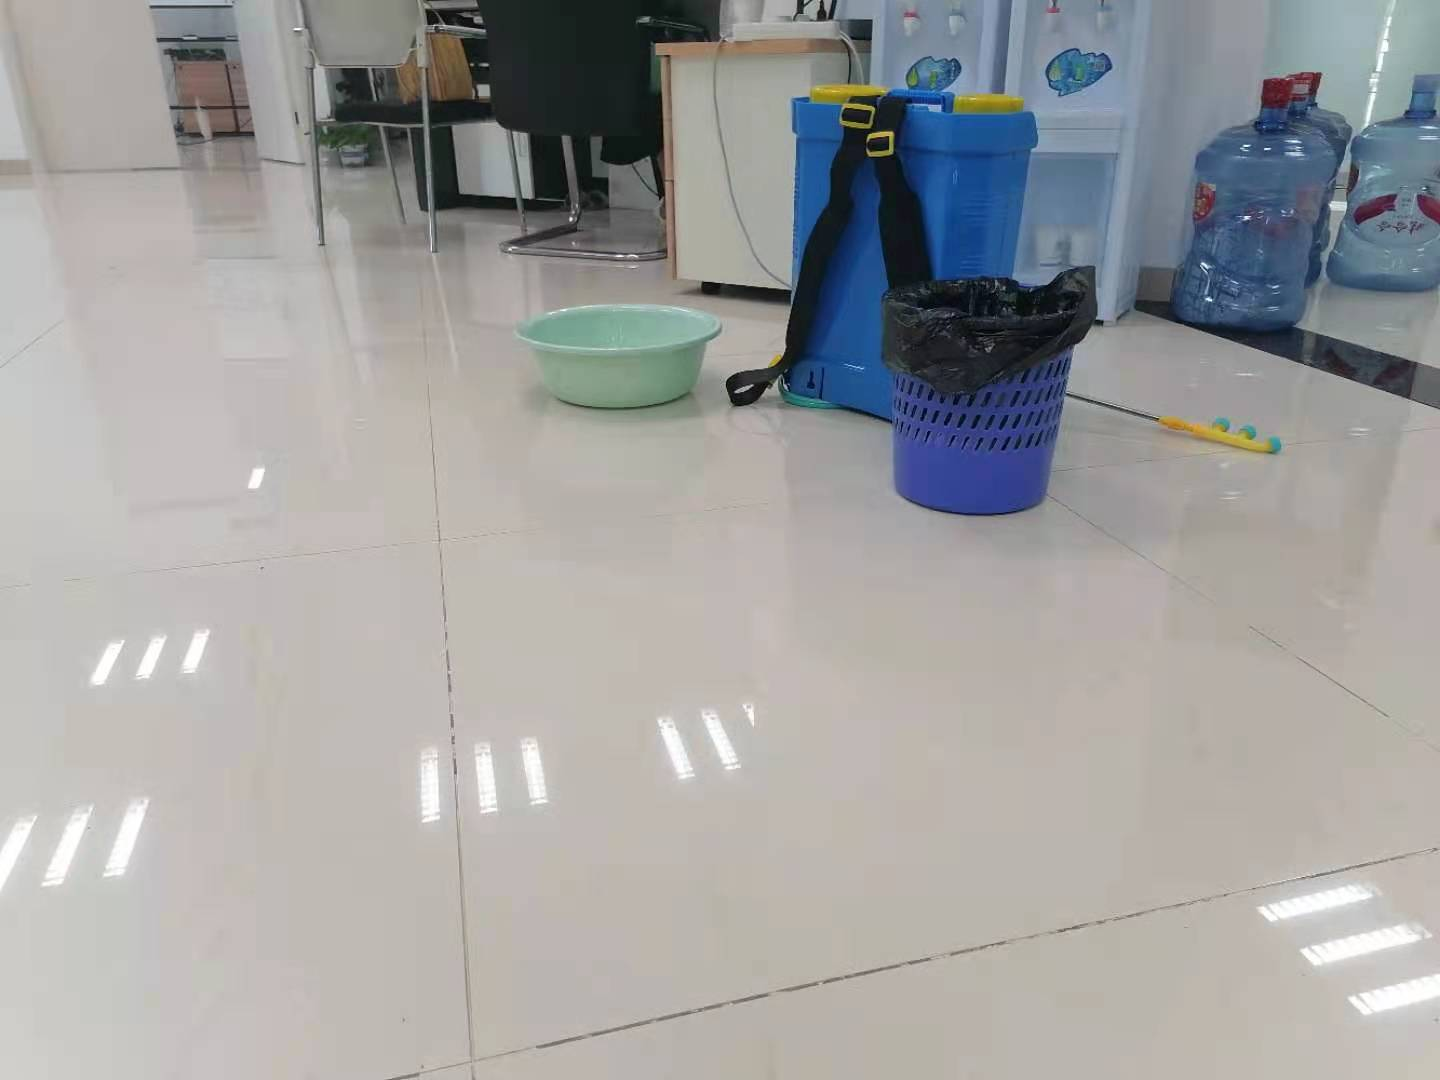berrl: (781, 79, 1033, 428)
